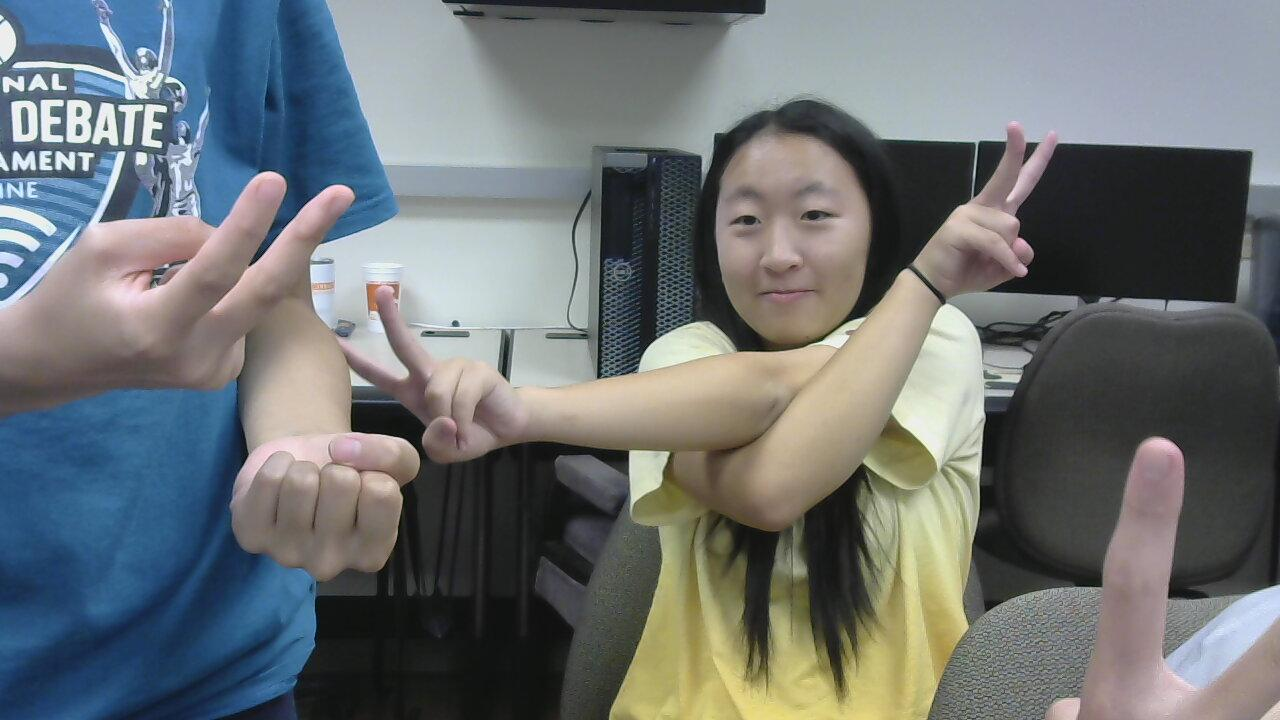fist: (231, 412, 419, 588)
hands: (1035, 433, 1279, 720)
peace: (12, 162, 380, 423), (322, 285, 532, 473), (915, 98, 1084, 300)
